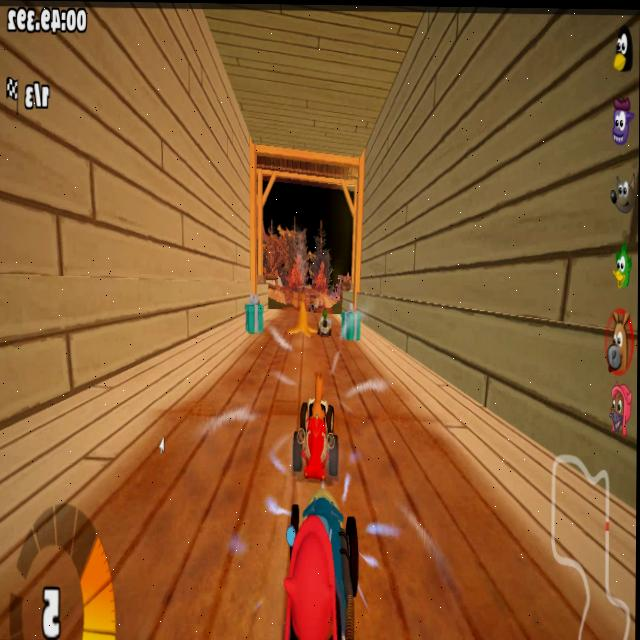bonus: (243, 291, 264, 339), (339, 306, 363, 342)
enemy_kart: (290, 381, 343, 482), (317, 311, 334, 343)
obstacle: (285, 302, 315, 344)
player_kart: (280, 496, 363, 640)
